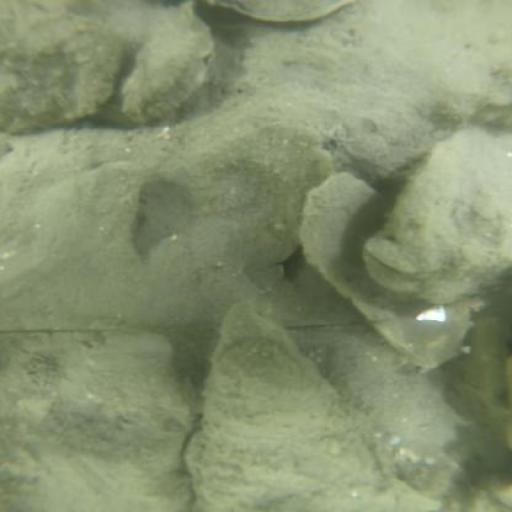Oyster-Closed: (196, 326, 403, 512), (35, 341, 189, 512), (368, 126, 503, 303), (1, 6, 120, 131), (123, 10, 210, 128)
